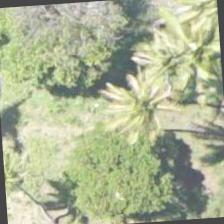Kelapa_Sawit: (1, 120, 56, 214)
